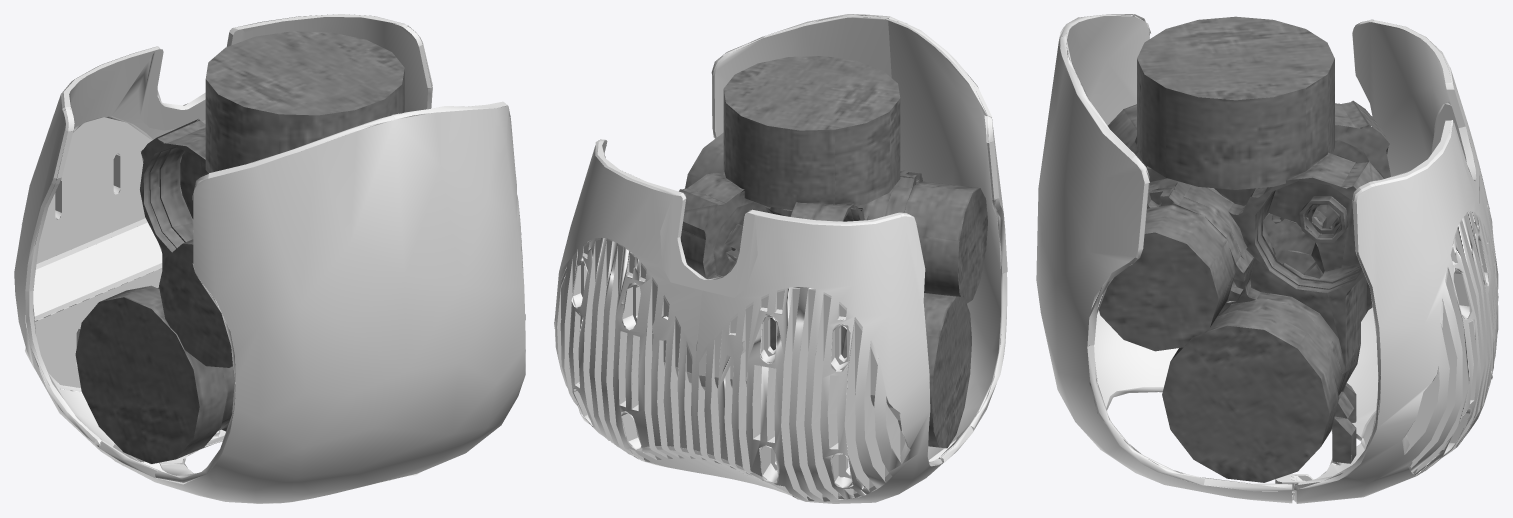
Rendered from icub_chest.dae.
The picture shows the model from 3 angles, left to right: view 1: azimuth 30°, elevation 25°; view 2: azimuth 150°, elevation 25°; view 3: azimuth 270°, elevation 25°; orthographic projection. The views are drawn at different scales.
Parts seen in each view (by area): view 1: torso_mesh_001; view 2: torso_mesh_001; view 3: torso_mesh_001.
Part boxes in pixels (x1,y1,x2,y2): torso_mesh_001: (14, 14, 525, 503); torso_mesh_001: (554, 14, 1007, 503); torso_mesh_001: (1036, 14, 1498, 503).
Bounding box in the file's own units: 0.19 × 0.1868 × 0.1847.
1 material, 1 textured.
